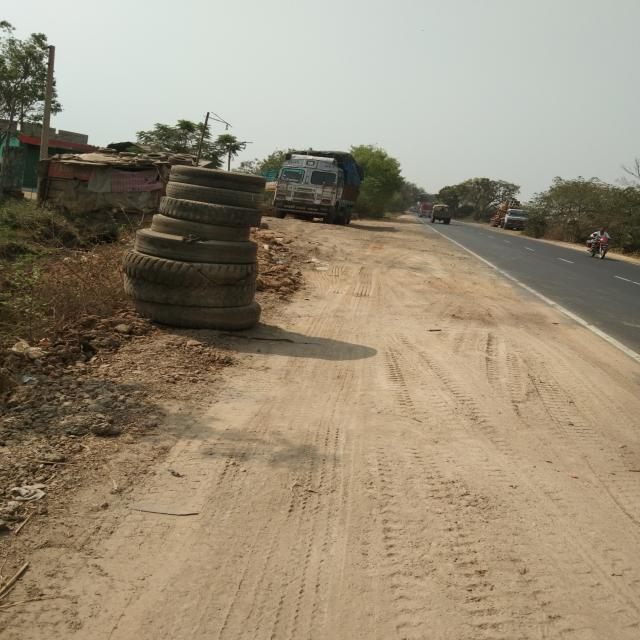Truck: (275, 145, 366, 225)
